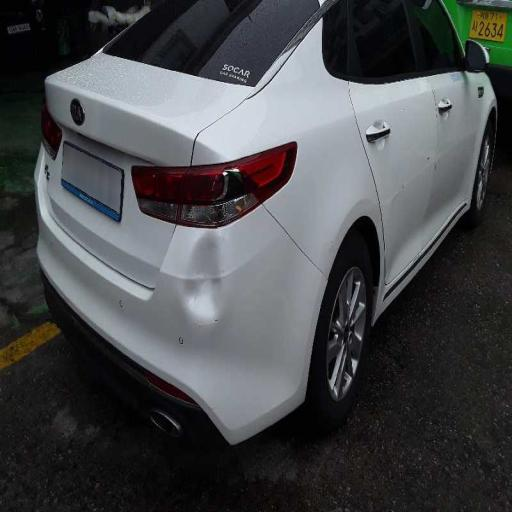dent: (184, 208, 238, 345)
